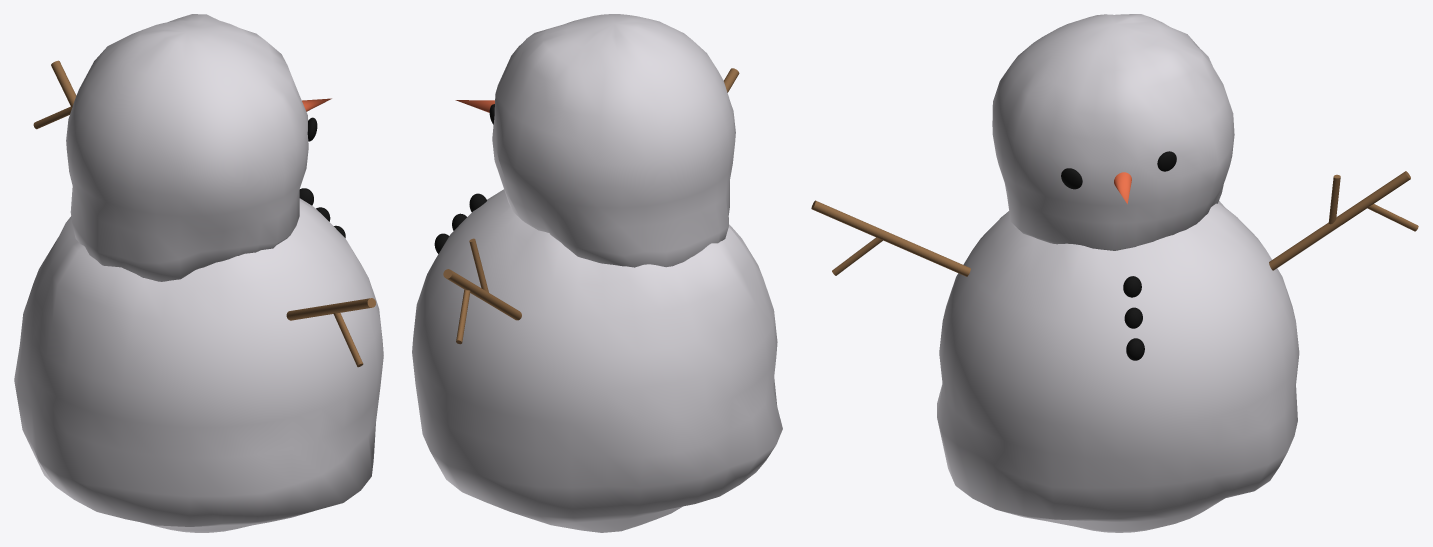
The model's file is Snowman2.fbx.
3 renders of one model, left to right at view 1: azimuth 30°, elevation 25°; view 2: azimuth 150°, elevation 25°; view 3: azimuth 270°, elevation 25°, orthographic.
Visible parts, largest first — view 1: Snowman, Sphere.001, Cylinder.003, Cylinder; view 2: Snowman, Sphere.001, Cylinder; view 3: Snowman, Sphere.001, Cylinder.003, Cylinder.
Part boxes in pixels (x1=…): Snowman: x1=14, y1=198, x2=383, y2=532; Sphere.001: x1=66, y1=14, x2=308, y2=281; Cylinder.003: x1=286, y1=298, x2=375, y2=320; Cylinder: x1=51, y1=60, x2=76, y2=107; Snowman: x1=412, y1=189, x2=782, y2=532; Sphere.001: x1=492, y1=14, x2=735, y2=267; Cylinder: x1=443, y1=269, x2=521, y2=320; Snowman: x1=937, y1=201, x2=1299, y2=532; Sphere.001: x1=992, y1=14, x2=1234, y2=250; Cylinder.003: x1=811, y1=200, x2=970, y2=276; Cylinder: x1=1269, y1=171, x2=1410, y2=270.
Bounding box in the file's own units: 203 × 296 × 337.
